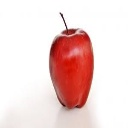apple: (49, 11, 96, 111)
